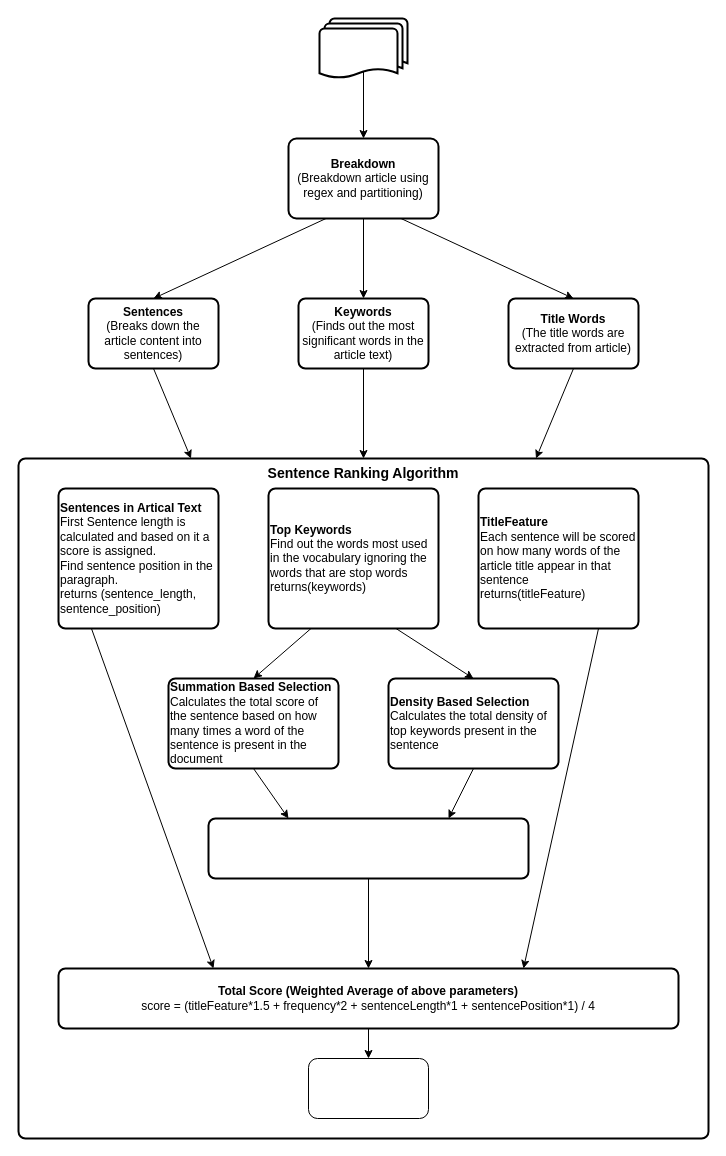
Image size: 726x1156. Some labels were removed from this diagram. The shapes that lost their labels are listed below. From the top down, each one's box as (x1, y1, x2, y2) in pixels, then its label:
(318, 17, 408, 79): News Articles
(207, 817, 529, 879): Frequency Feature frequency = ((sbs+dbs) / 2) * 10
(308, 1058, 428, 1118): Return Top 5 Sentences
